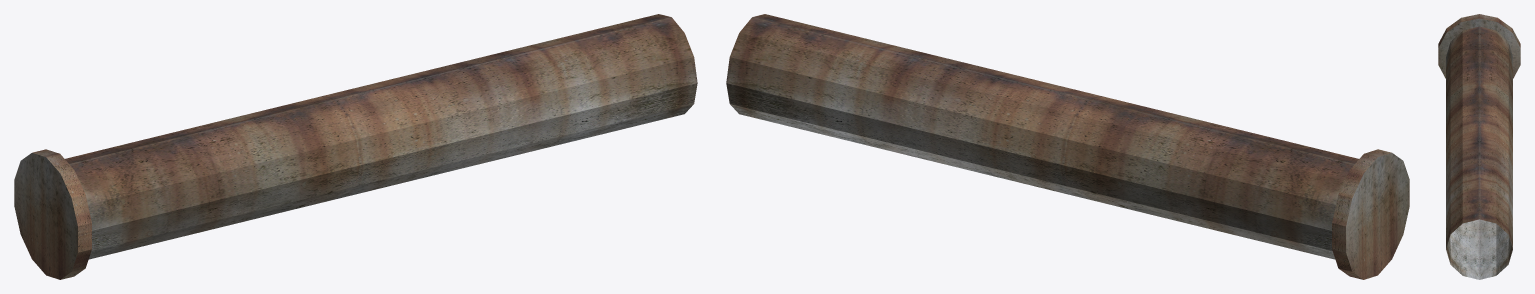
Rendered from pipe_2_lod1.DAE.
3 renders of one model, left to right at view 1: azimuth 30°, elevation 25°; view 2: azimuth 150°, elevation 25°; view 3: azimuth 270°, elevation 25°, orthographic. The views are drawn at different scales.
Visible parts, largest first — view 1: Mesh_Object; view 2: Mesh_Object; view 3: Mesh_Object.
Boxes of the visible parts, bbox=[...] form: Mesh_Object: bbox=[14, 14, 697, 279]; Mesh_Object: bbox=[726, 14, 1409, 279]; Mesh_Object: bbox=[1438, 14, 1520, 279].
Bounding box in the file's own units: 6.91 × 1.25 × 1.22.
